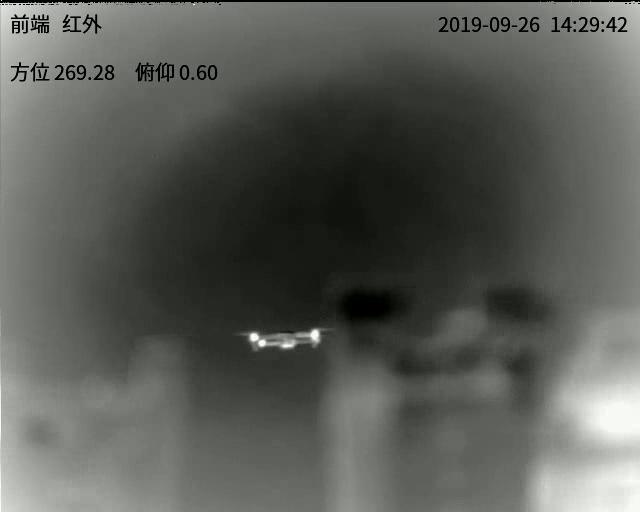DRONE: (236, 325, 332, 353)
